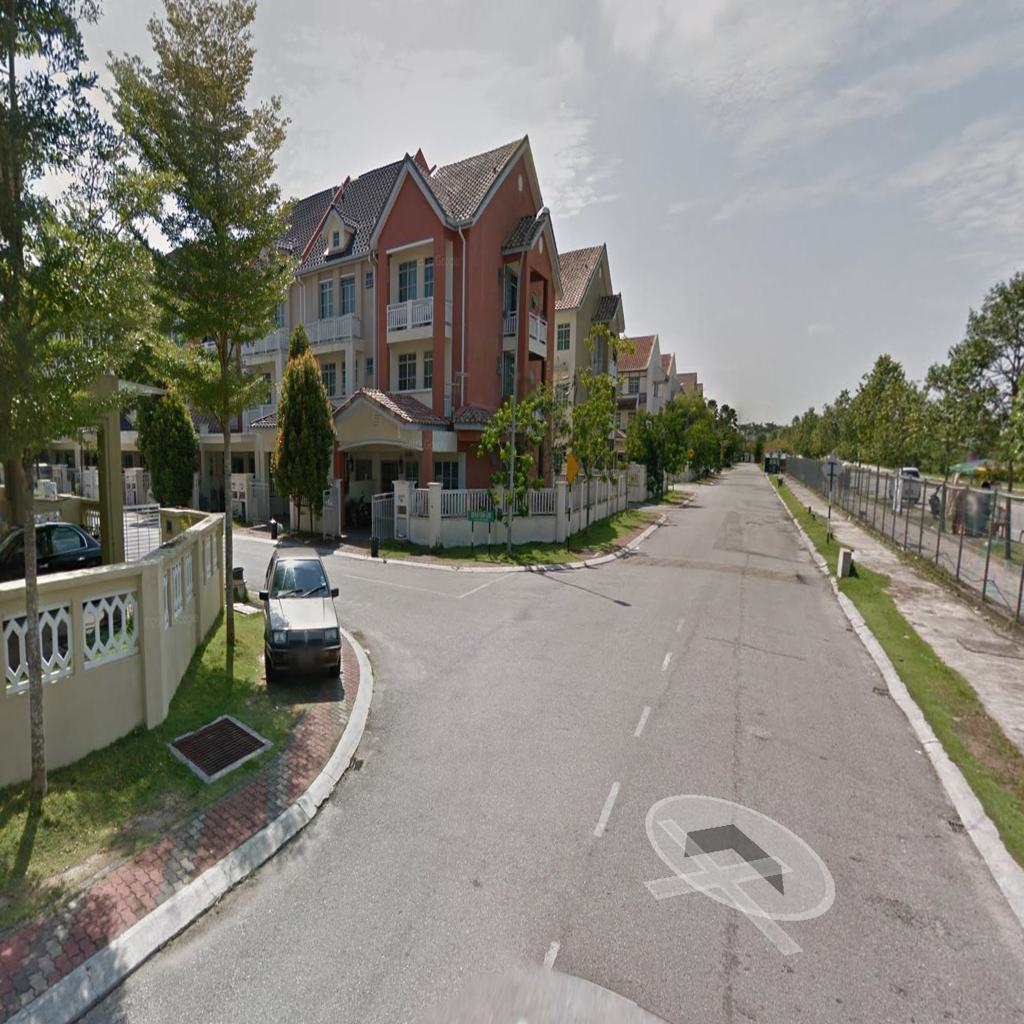Junction: (316, 520, 575, 749)
